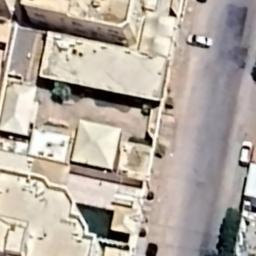SUV: (239, 139, 255, 167)
sedan: (186, 32, 214, 50)
